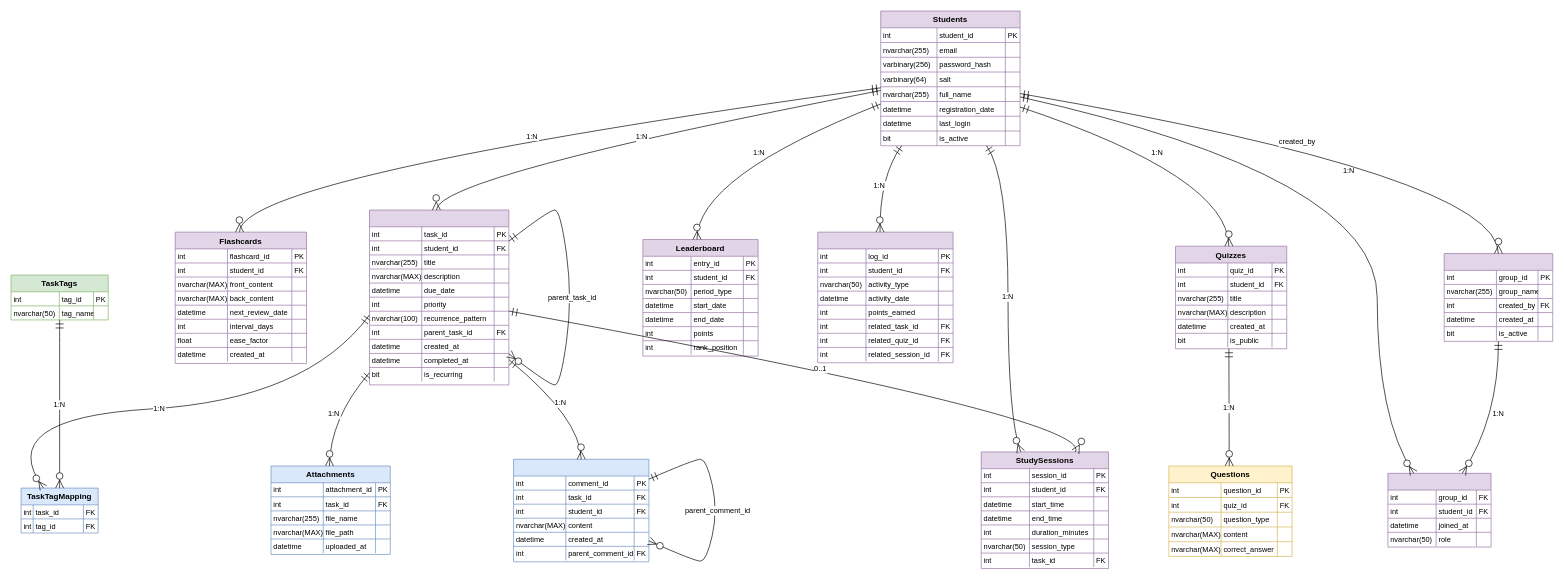
This 1564x580 diagram has some shape labels left out. The shapes that lost their labels are listed below. From the top down, each one's box as (x1, y1, x2, y2) in pixels, then its label:
(369, 209, 509, 385): Tasks
(817, 231, 953, 363): ActivityLog
(1444, 253, 1553, 341): Groups
(513, 459, 649, 562): Comments
(1387, 473, 1491, 547): GroupMembers
